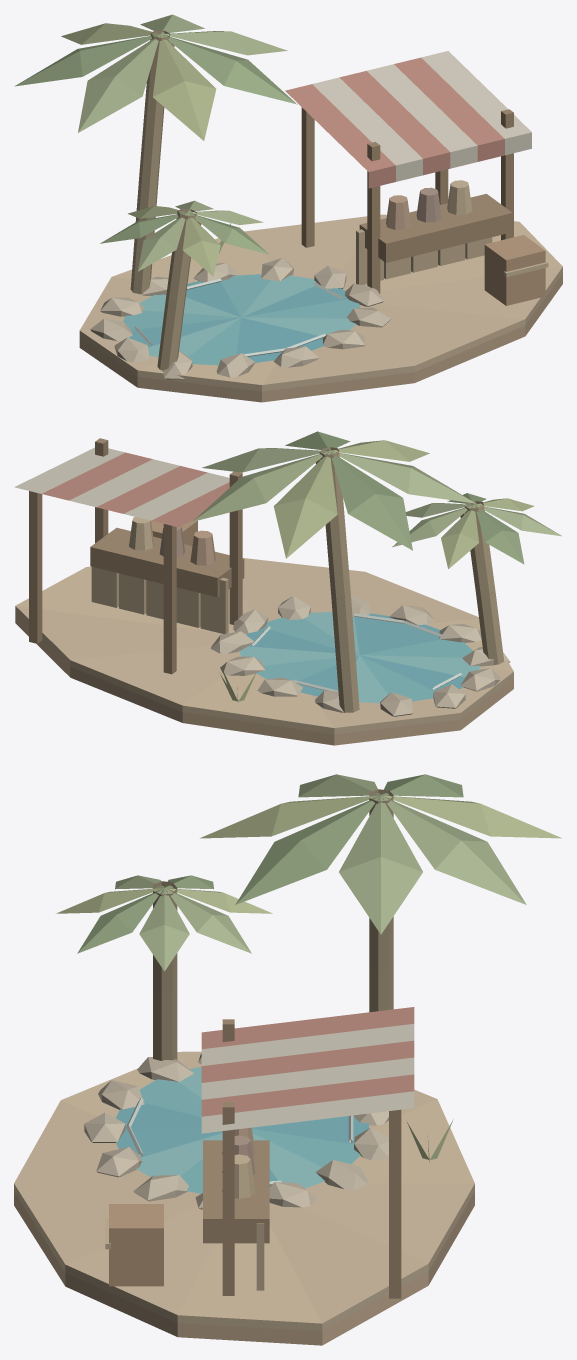
3 views of the same model, one above another, from view 1: azimuth 30°, elevation 25°; view 2: azimuth 150°, elevation 25°; view 3: azimuth 270°, elevation 25° (orthographic). The views are drawn at different scales.
Visible parts, largest first — view 1: S04; view 2: S04; view 3: S04.
Part boxes in pixels (x1,y1,x2,y2): S04: (14, 14, 562, 402); S04: (14, 431, 561, 745); S04: (14, 774, 561, 1345).
Bounding box in the file's own units: 5.3 × 2.96 × 4.29.
